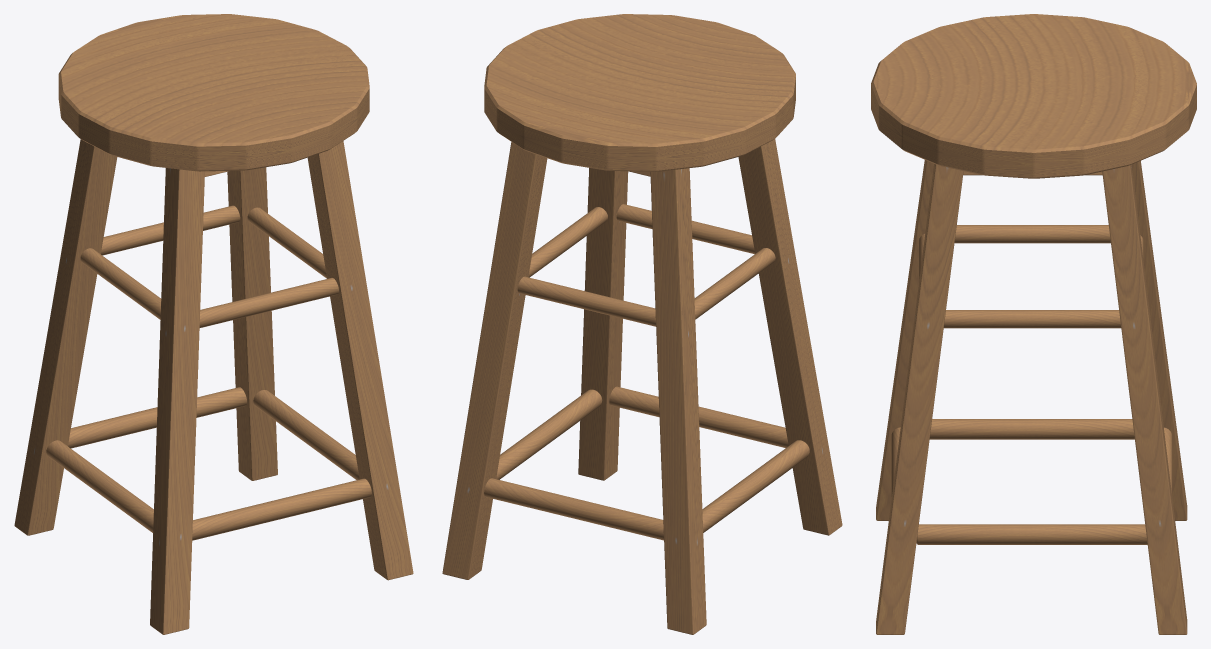
The model's file is Stool_Final.fbx.
3 views of the same model, side by side, from view 1: azimuth 30°, elevation 25°; view 2: azimuth 150°, elevation 25°; view 3: azimuth 270°, elevation 25° (orthographic). The views are drawn at different scales.
Parts seen in each view (by area): view 1: Leg, Stool_Top, Stool_Upper_Cylinder6; view 2: Leg, Stool_Top, Stool_Upper_Cylinder6; view 3: Stool_Top, Leg, Stool_Upper_Cylinder6.
Part boxes in pixels (box(x1,y1,x2,y2)): Leg: box(14, 139, 413, 634); Stool_Top: box(58, 14, 369, 171); Stool_Upper_Cylinder6: box(46, 205, 371, 540); Leg: box(442, 139, 842, 634); Stool_Top: box(484, 14, 795, 171); Stool_Upper_Cylinder6: box(484, 204, 809, 540); Stool_Top: box(871, 14, 1196, 178); Leg: box(876, 160, 1187, 634); Stool_Upper_Cylinder6: box(891, 225, 1172, 544).
Size of the model in its own units: 3.83 by 6.37 by 3.83.
3 materials, 3 textured.
